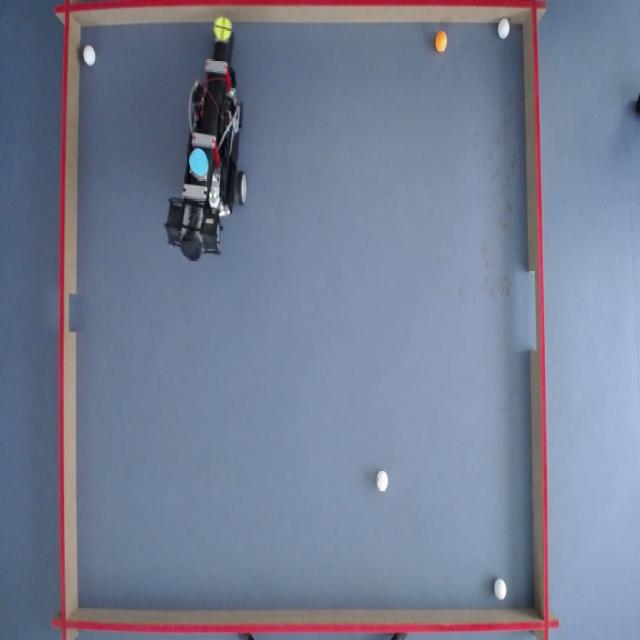orange: (435, 28, 449, 54)
robot: (170, 16, 248, 270)
robot-front: (213, 15, 234, 44)
robot-rear: (188, 145, 209, 180)
white: (495, 578, 509, 601), (498, 18, 512, 39), (83, 46, 96, 67), (376, 470, 388, 492)
